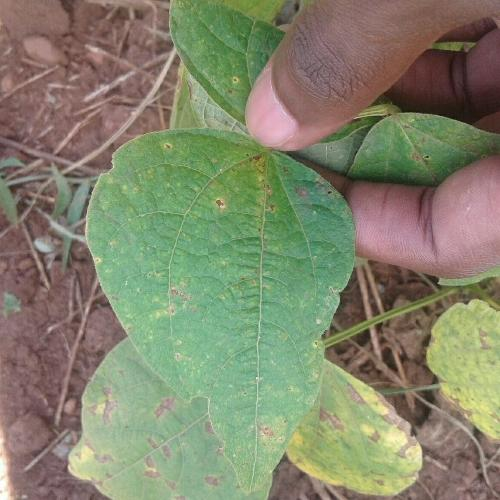hawar: (82, 382, 178, 486), (201, 150, 320, 232), (154, 268, 194, 318), (238, 406, 274, 452), (194, 465, 219, 492)
mozaik: (124, 138, 316, 380)
